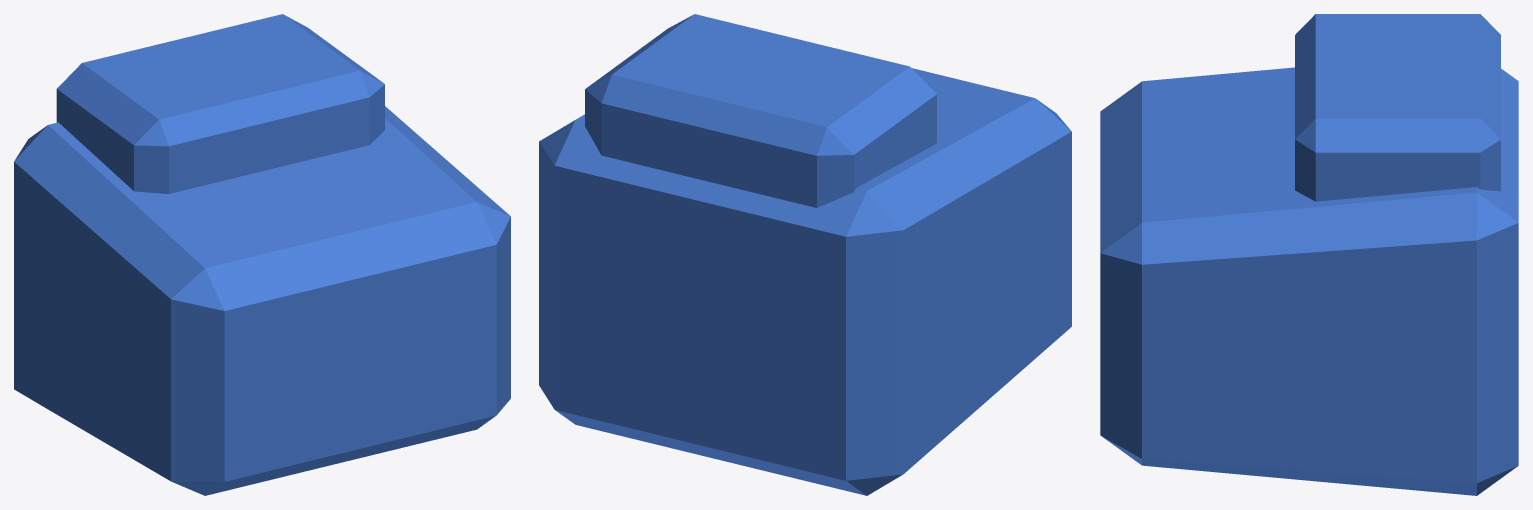
The model's file is BlueBeanbag.fbx.
The picture shows the model from 3 angles, left to right: view 1: azimuth 30°, elevation 25°; view 2: azimuth 150°, elevation 25°; view 3: azimuth 270°, elevation 25°; orthographic projection. The views are drawn at different scales.
Visible parts, largest first — view 1: BlueBeanbag; view 2: BlueBeanbag; view 3: BlueBeanbag.
Part boxes in pixels (<box>): BlueBeanbag: <box>14,14,510,495</box>; BlueBeanbag: <box>539,14,1071,495</box>; BlueBeanbag: <box>1100,14,1518,495</box>.
Size of the model in its own units: 2.6 by 2.46 by 2.6.
1 material, 1 textured.
